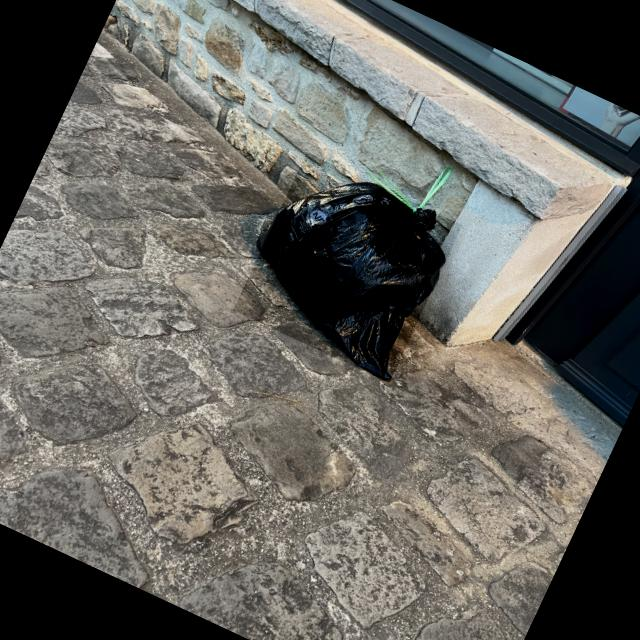Garbage bag: (233, 153, 462, 383)
